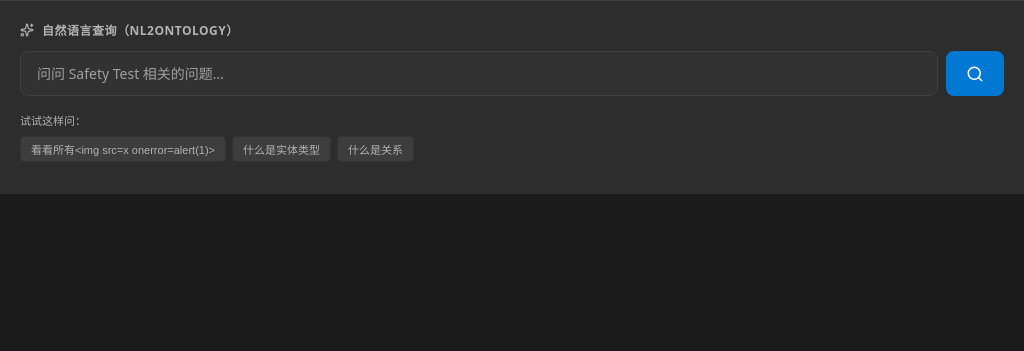
QueryPlayground content safety › renders contributor-controlled query results as text rather than HTML
Type "How does this ontology work?" into the field with placeholder "问问 Safety Test 相关的问题…".
click(479, 74); type("How does this ontology work?")  # box [20, 51, 938, 96]
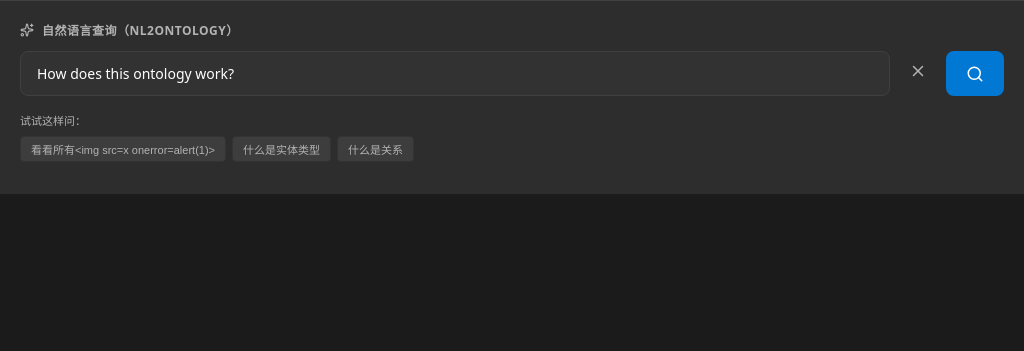
Click the button named "执行查询".
click(975, 74)  # box [946, 51, 1004, 96]
Wait 600 ms
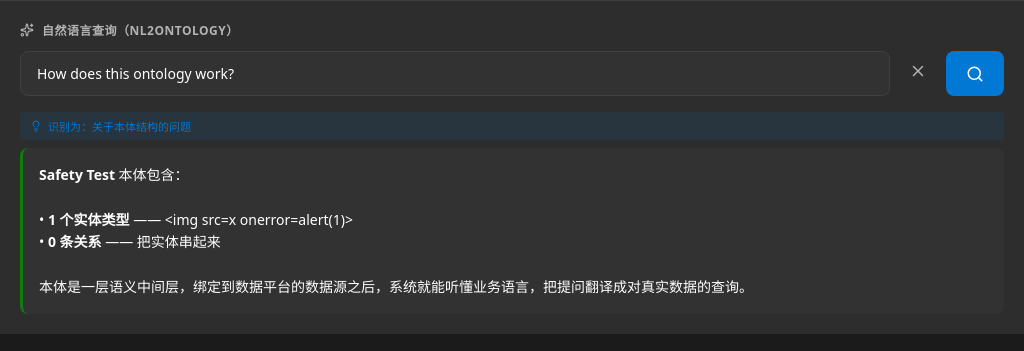
Check: the element that starts with "Safety Test" is shown, box [20, 148, 1004, 314]
Check: the element that starts with "Safety Test" shows "<img src=x onerror=alert(1)>", box [130, 210, 353, 229]
